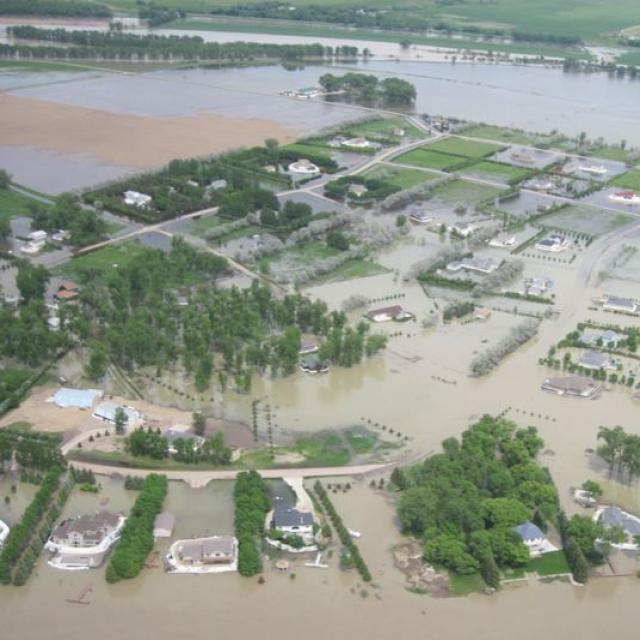flooded_areas: (0, 196, 632, 639)
